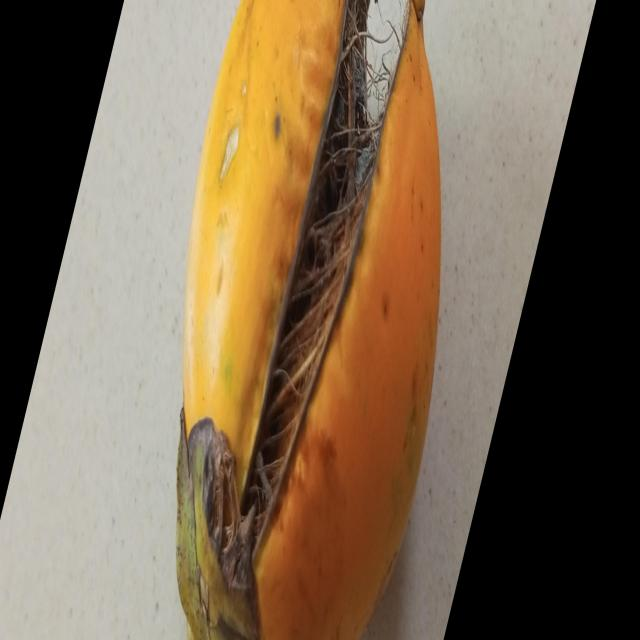damaged: (177, 0, 442, 640)
